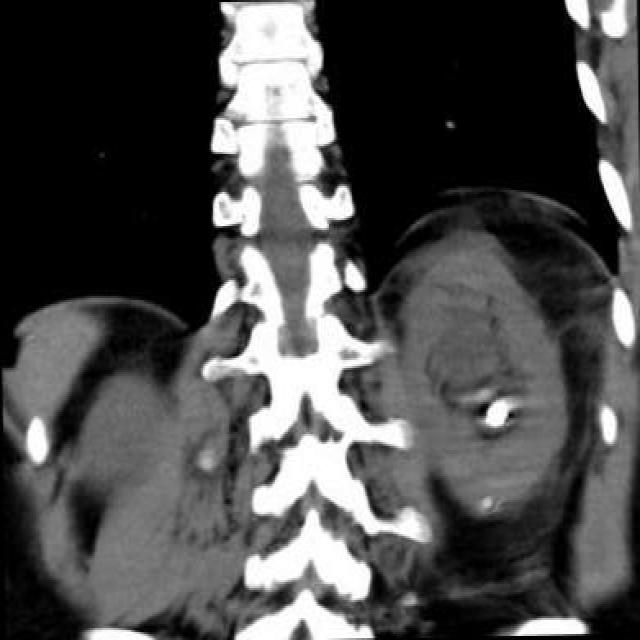Tas_Var: (481, 392, 511, 432), (474, 491, 502, 515)
